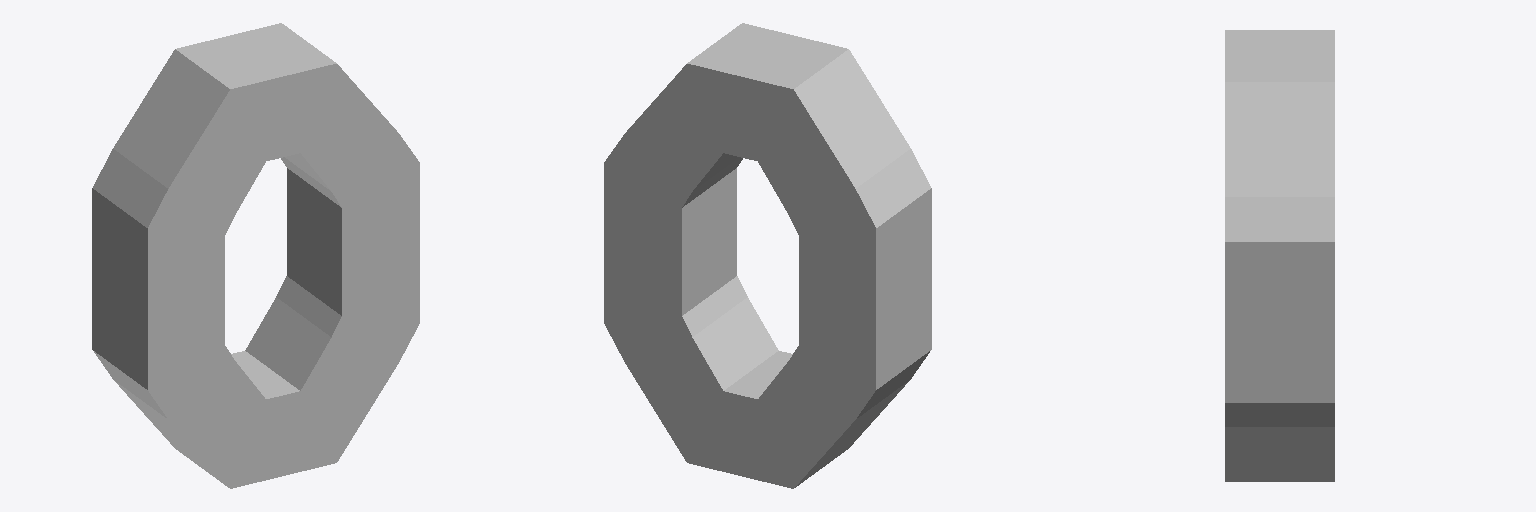
3 renders of one model, left to right at view 1: azimuth 30°, elevation 25°; view 2: azimuth 150°, elevation 25°; view 3: azimuth 270°, elevation 25°, orthographic.
Parts seen in each view (by area): view 1: text: ABCDEFGHIJKLMNOPQRSTUVWXYZ[number redacted]; view 2: text: ABCDEFGHIJKLMNOPQRSTUVWXYZ[number redacted]; view 3: text: ABCDEFGHIJKLMNOPQRSTUVWXYZ[number redacted].
Boxes of the visible parts, x1,y1,x2,y2 form: text: ABCDEFGHIJKLMNOPQRSTUVWXYZ[number redacted]: [92, 23, 419, 488]; text: ABCDEFGHIJKLMNOPQRSTUVWXYZ[number redacted]: [604, 23, 931, 488]; text: ABCDEFGHIJKLMNOPQRSTUVWXYZ[number redacted]: [1225, 30, 1334, 481].
Bounding box in the file's own units: 70.92 × 99.57 × 25.